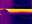Hotspot: (6, 9, 31, 13)
